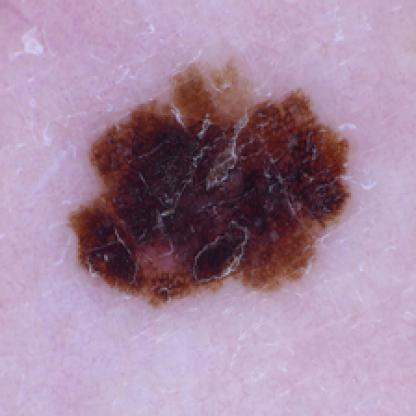Skin_Cancer-Malignant: (68, 58, 350, 310)
